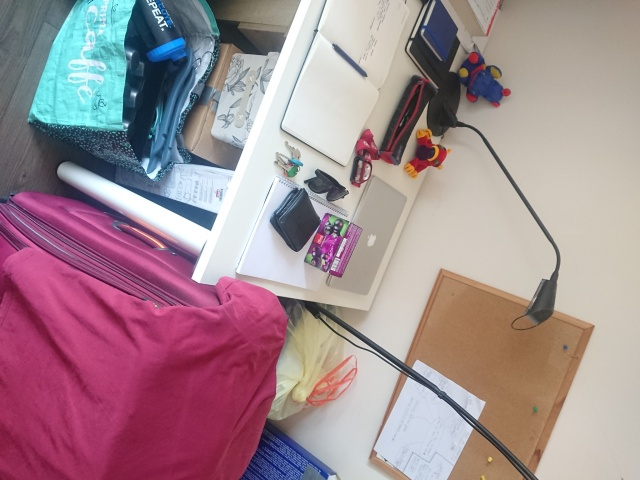Franck Black Currant Tea 60g: (302, 210, 365, 280)
